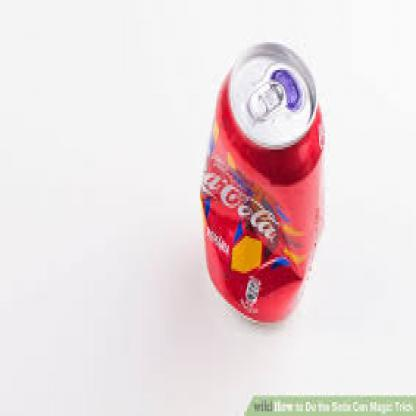METAL: (198, 42, 322, 325)
